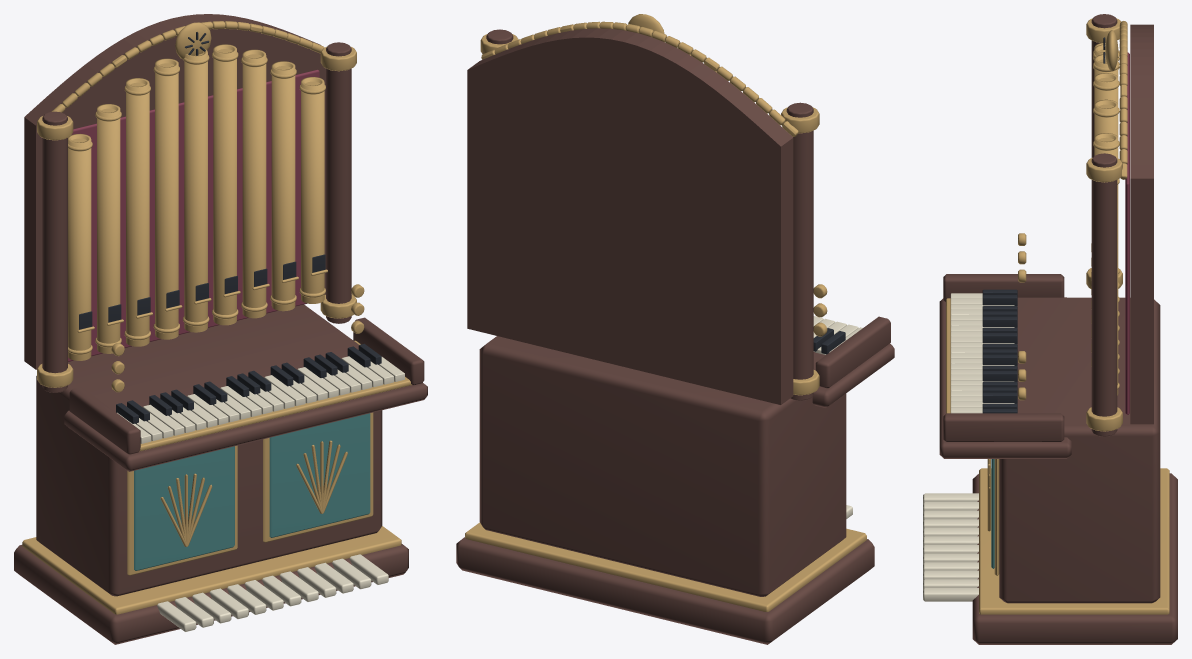
The model's file is choir_organ.glb.
3 views of the same model, side by side, from view 1: azimuth 30°, elevation 25°; view 2: azimuth 150°, elevation 25°; view 3: azimuth 270°, elevation 25° (orthographic). The views are drawn at different scales.
Visible parts, largest first — view 1: choir_organ; view 2: choir_organ; view 3: choir_organ.
Boxes of the visible parts, left/top/right/bottom form: choir_organ: left=14, top=14, right=427, bottom=644; choir_organ: left=456, top=14, right=894, bottom=644; choir_organ: left=923, top=14, right=1177, bottom=644.
Size of the model in its own units: 2 by 3.27 by 1.39.
